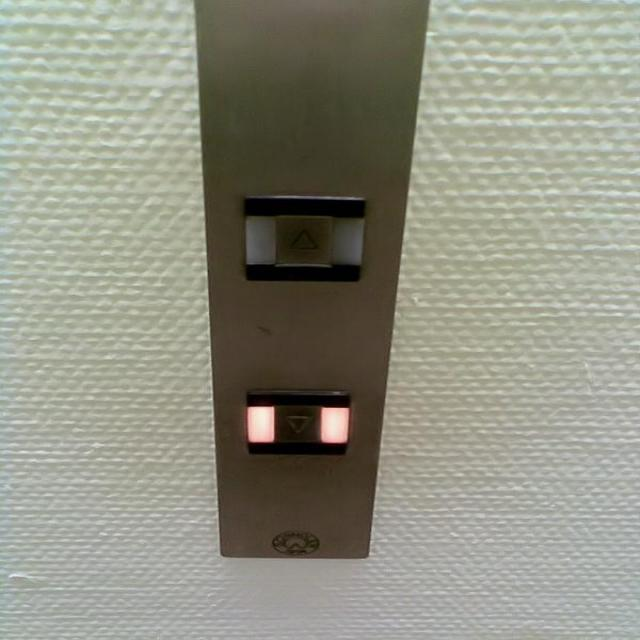down: (274, 405, 322, 443)
up: (269, 212, 336, 266)
